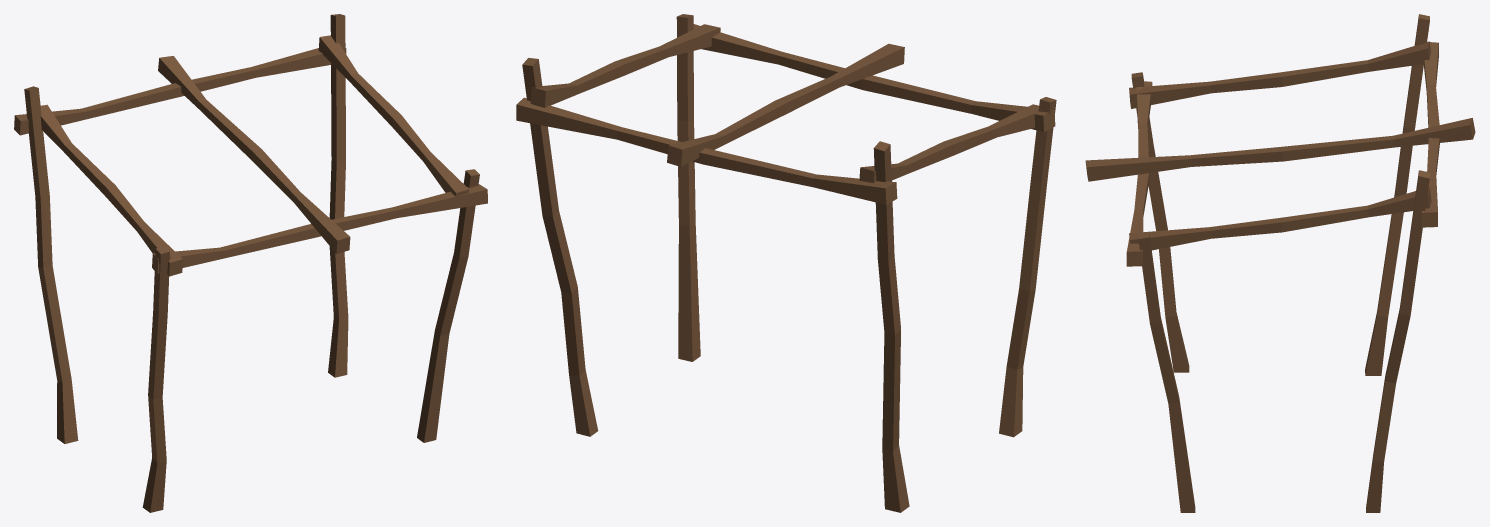
File: SM_Bld_Stall_Cover_05.gltf
3 views of the same model, side by side, from view 1: azimuth 30°, elevation 25°; view 2: azimuth 150°, elevation 25°; view 3: azimuth 270°, elevation 25° (orthographic). The views are drawn at different scales.
Visible parts, largest first — view 1: SM_Bld_Stall_Cover_05; view 2: SM_Bld_Stall_Cover_05; view 3: SM_Bld_Stall_Cover_05.
Boxes of the visible parts, x1,y1,x2,y2 form: SM_Bld_Stall_Cover_05: [14, 14, 487, 512]; SM_Bld_Stall_Cover_05: [516, 14, 1056, 512]; SM_Bld_Stall_Cover_05: [1085, 14, 1475, 512].
Size of the model in its own units: 3 by 2.97 by 2.99.
1 material, 1 textured.
